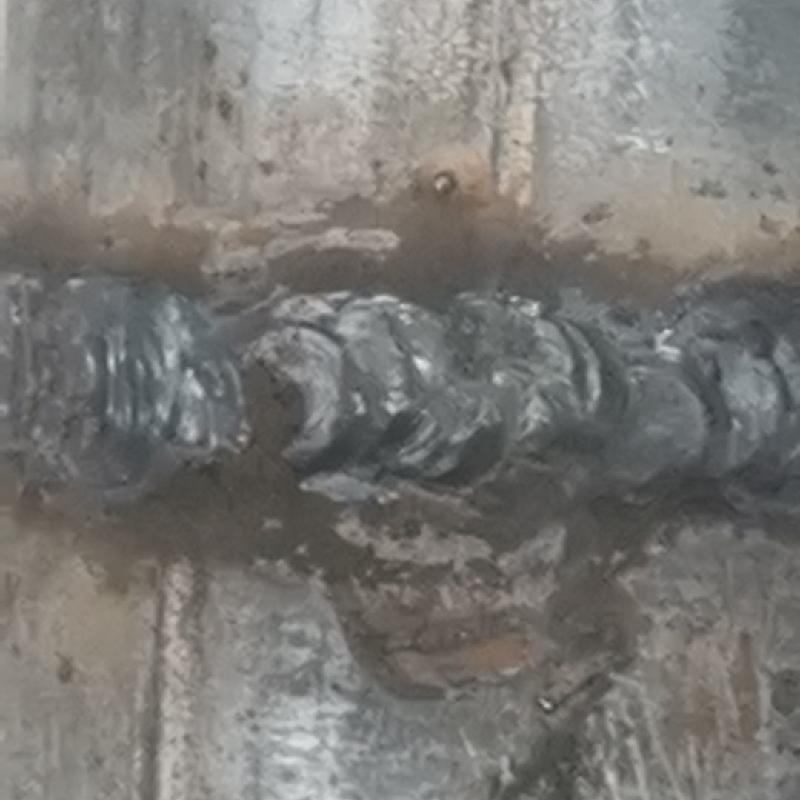good: (1, 257, 799, 488)
